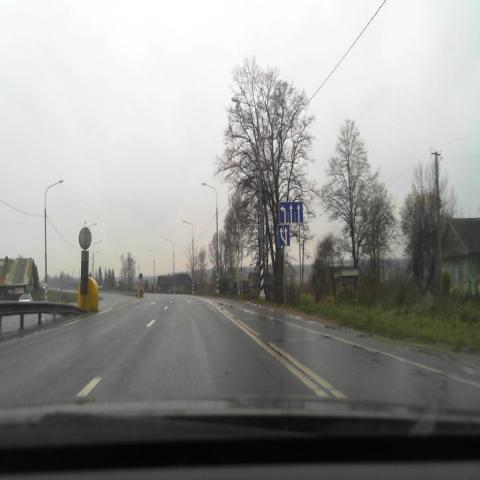5_15_1: (279, 203, 303, 223)
